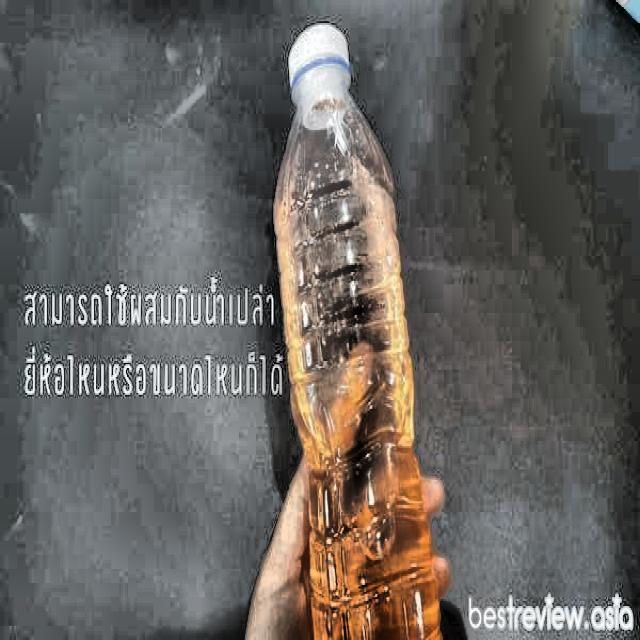Bottles: (275, 19, 448, 640)
